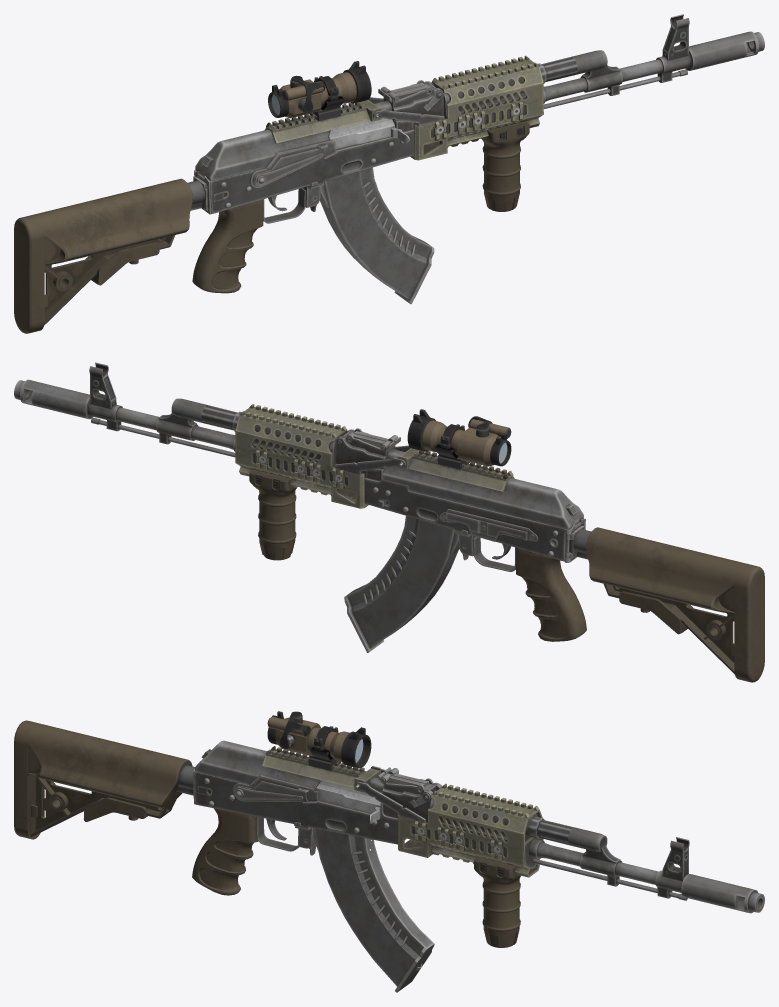
The model's file is fps_guns_4k_-_rifle_1.glb.
The picture shows the model from 3 angles, top to bottom: view 1: azimuth 30°, elevation 25°; view 2: azimuth 150°, elevation 25°; view 3: azimuth 330°, elevation 25°; orthographic projection.
Visible parts, largest first — view 1: Stock_Main1, Magazine1, Cage, Main_Receiver2, Main_Grip, Receiver_Cover, Foregrip_Main, Barrel_Upper, Scope, Muzzle, Scope_Holder, Mode_Switch (+11 smaller); view 2: Stock_Main1, Magazine1, Cage, Receiver_Cover, Main_Receiver2, Main_Grip, Foregrip_Main, Scope, Barrel_Upper, Muzzle, Scope_Holder, Ironsight_Front (+10 smaller); view 3: Stock_Main1, Magazine1, Cage, Main_Receiver2, Main_Grip, Foregrip_Main, Receiver_Cover, Barrel_Upper, Scope, Muzzle, Scope_Holder, Stock_Separator (+11 smaller).
Boxes of the visible parts, x1=… form: Stock_Main1: x1=14, y1=178, x2=192, y2=333; Magazine1: x1=320, y1=167, x2=434, y2=304; Cage: x1=410, y1=58, x2=543, y2=160; Main_Receiver2: x1=199, y1=120, x2=414, y2=213; Main_Grip: x1=192, y1=199, x2=263, y2=293; Receiver_Cover: x1=195, y1=101, x2=392, y2=180; Foregrip_Main: x1=481, y1=121, x2=529, y2=211; Barrel_Upper: x1=541, y1=50, x2=622, y2=95; Scope: x1=268, y1=67, x2=371, y2=118; Muzzle: x1=685, y1=31, x2=764, y2=70; Scope_Holder: x1=264, y1=100, x2=381, y2=143; Mode_Switch: x1=250, y1=141, x2=337, y2=187; Stock_Main1: x1=586, y1=527, x2=764, y2=682; Magazine1: x1=344, y1=516, x2=459, y2=652; Cage: x1=235, y1=407, x2=368, y2=508; Receiver_Cover: x1=383, y1=449, x2=583, y2=529; Main_Receiver2: x1=364, y1=469, x2=583, y2=561; Main_Grip: x1=516, y1=548, x2=586, y2=641; Foregrip_Main: x1=249, y1=469, x2=297, y2=560; Scope: x1=407, y1=415, x2=511, y2=466; Barrel_Upper: x1=156, y1=398, x2=237, y2=444; Muzzle: x1=14, y1=379, x2=92, y2=419; Scope_Holder: x1=397, y1=448, x2=514, y2=491; Ironsight_Front: x1=87, y1=362, x2=122, y2=431; Stock_Main1: x1=14, y1=720, x2=192, y2=839; Magazine1: x1=312, y1=828, x2=434, y2=992; Cage: x1=398, y1=787, x2=543, y2=877; Main_Receiver2: x1=194, y1=771, x2=406, y2=844; Main_Grip: x1=192, y1=808, x2=258, y2=895; Foregrip_Main: x1=474, y1=857, x2=520, y2=947; Receiver_Cover: x1=195, y1=740, x2=383, y2=792; Barrel_Upper: x1=537, y1=820, x2=622, y2=886; Scope: x1=267, y1=717, x2=371, y2=768; Muzzle: x1=681, y1=874, x2=764, y2=913; Scope_Holder: x1=262, y1=749, x2=381, y2=792; Stock_Separator: x1=35, y1=777, x2=161, y2=830.
Size of the model in its own units: 0.8834 by 0.2828 by 0.0702.
5 materials, 4 textured.
